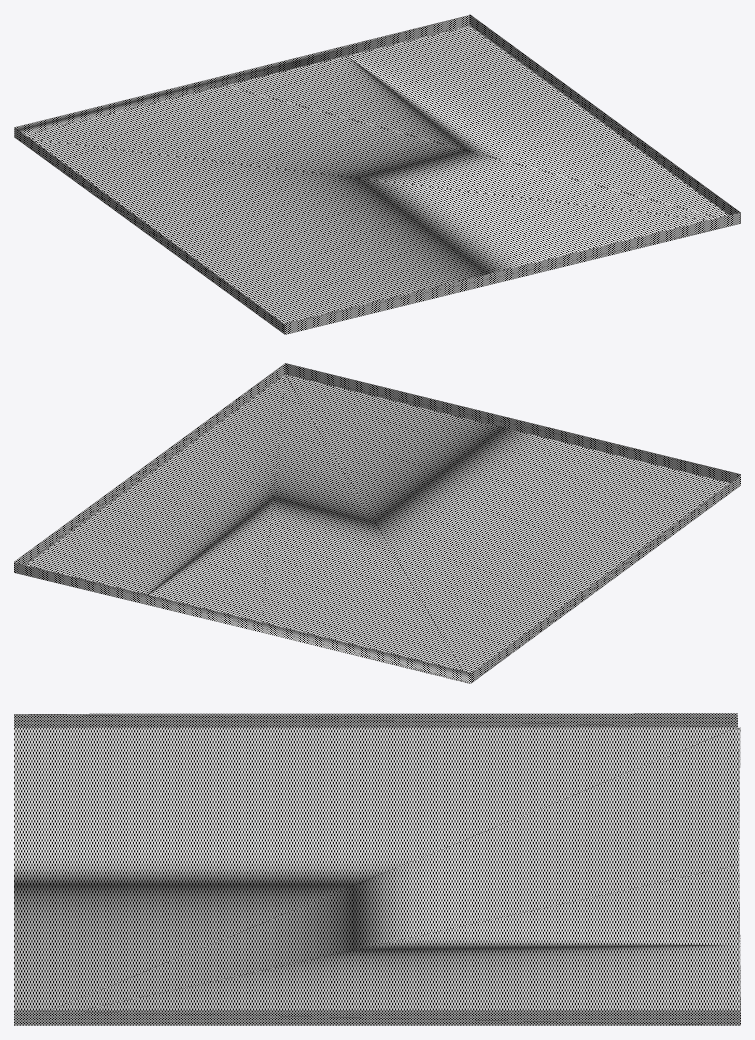
Rendered from groundPlane.fbx.
3 renders of one model, top to bottom at view 1: azimuth 30°, elevation 25°; view 2: azimuth 150°, elevation 25°; view 3: azimuth 270°, elevation 25°, orthographic. The views are drawn at different scales.
Parts seen in each view (by area): view 1: Model; view 2: Model; view 3: Model.
Boxes of the visible parts, left/top/right/bottom form: Model: left=14, top=14, right=740, bottom=334; Model: left=14, top=363, right=740, bottom=683; Model: left=14, top=713, right=740, bottom=1025.
Size of the model in its own units: 244 by 5.78 by 251.
